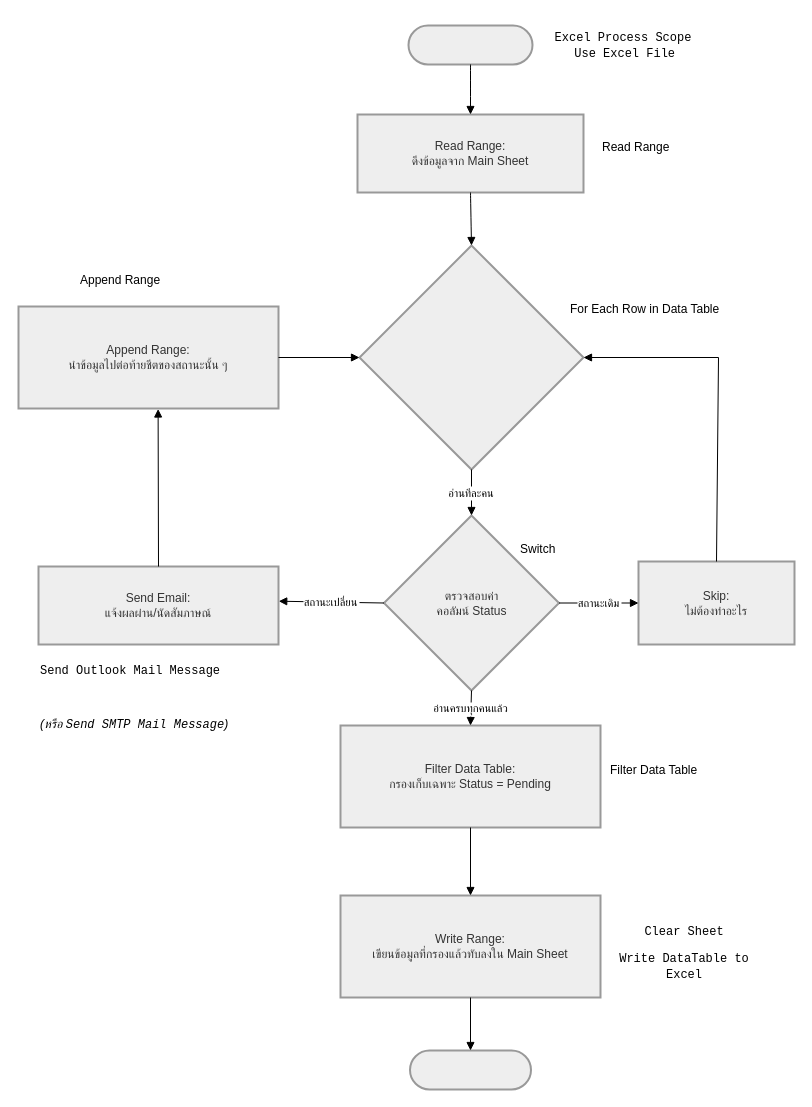
The diagram is 812 pixels wide and 1107 high, and some of its shapes have lost their labels. Each missing label, with the centre of its shape:
"For Each Row: วนอ่านผู้สมัครทีละแถว" belongs at pixel 471 357.
"สิ้นสุด Process" belongs at pixel 470 1069.
"เริ่มต้น Process" belongs at pixel 470 44.
